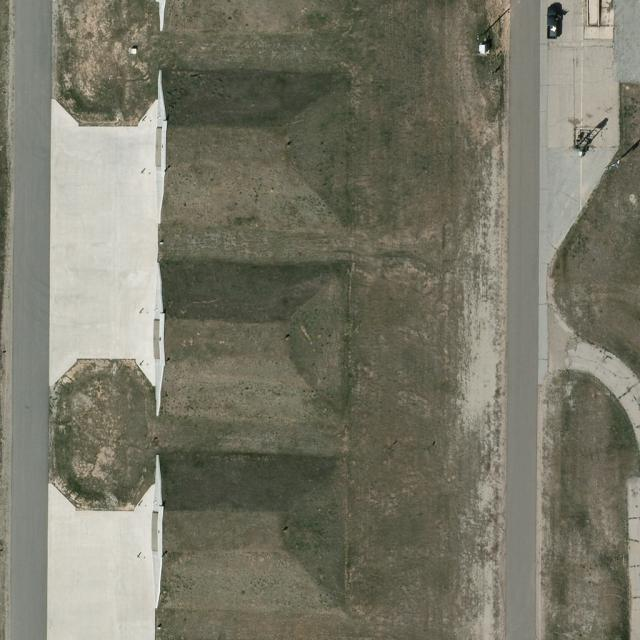vehicle: (548, 7, 558, 40)
